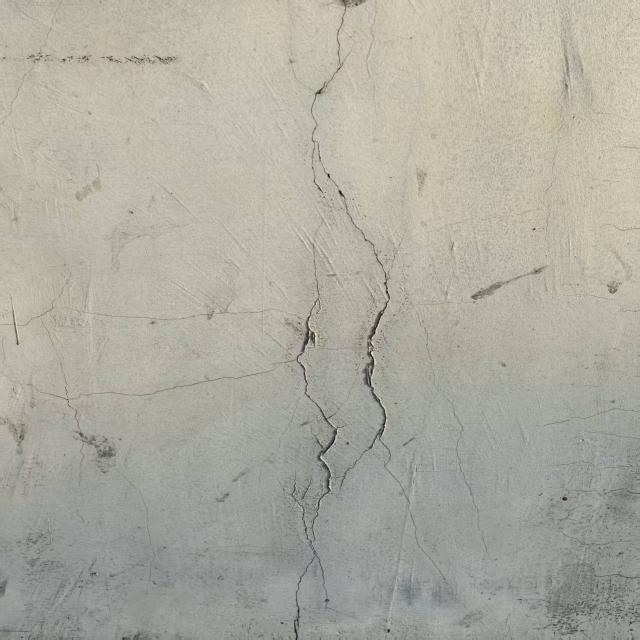crack: (14, 208, 347, 627), (293, 1, 460, 590)
